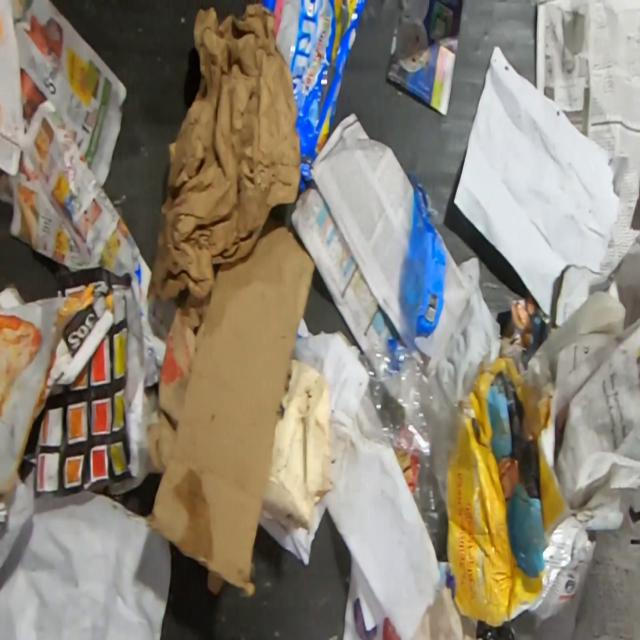cardboard: (148, 210, 316, 597), (436, 358, 570, 625), (259, 358, 337, 530), (146, 290, 212, 472), (207, 569, 223, 594)
rigid_plastic: (357, 172, 459, 561)
soft_plastic: (261, 0, 368, 199)
